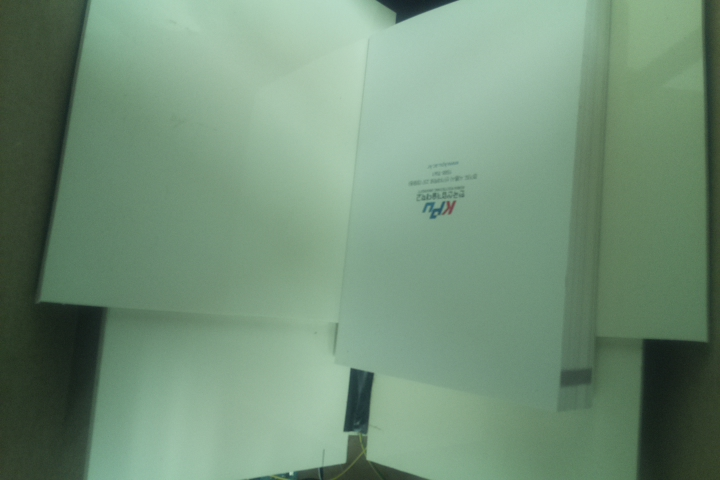book: (332, 1, 616, 415)
